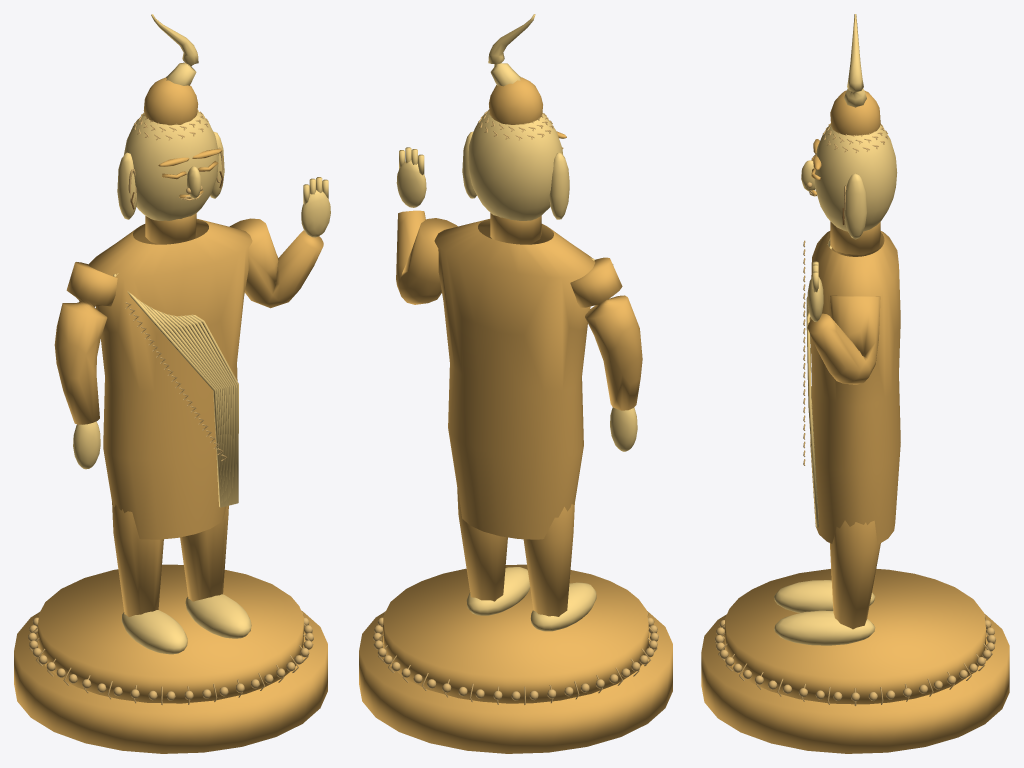
File: buddha-reassurance-refined.glb
The picture shows the model from 3 angles, left to right: view 1: azimuth 30°, elevation 25°; view 2: azimuth 150°, elevation 25°; view 3: azimuth 270°, elevation 25°; orthographic projection.
Parts seen in each view (by area): view 1: buddha-reassurance / Antique warm gold, buddha-reassurance / Raised gold ornament, Cupid lip ridge.006; view 2: buddha-reassurance / Antique warm gold, buddha-reassurance / Raised gold ornament, Cupid lip ridge.006; view 3: buddha-reassurance / Antique warm gold, buddha-reassurance / Raised gold ornament, Cupid lip ridge.006.
Part boxes in pixels (<box>): buddha-reassurance / Antique warm gold: <box>14,77,327,753</box>; buddha-reassurance / Raised gold ornament: <box>73,14,330,654</box>; Cupid lip ridge.006: <box>28,110,313,704</box>; buddha-reassurance / Antique warm gold: <box>359,77,672,753</box>; buddha-reassurance / Raised gold ornament: <box>396,14,637,631</box>; Cupid lip ridge.006: <box>373,109,658,704</box>; buddha-reassurance / Antique warm gold: <box>701,90,1009,753</box>; buddha-reassurance / Raised gold ornament: <box>774,14,897,645</box>; Cupid lip ridge.006: <box>715,123,995,705</box>.
Size of the model in its own units: 1.72 by 4.05 by 1.7.
